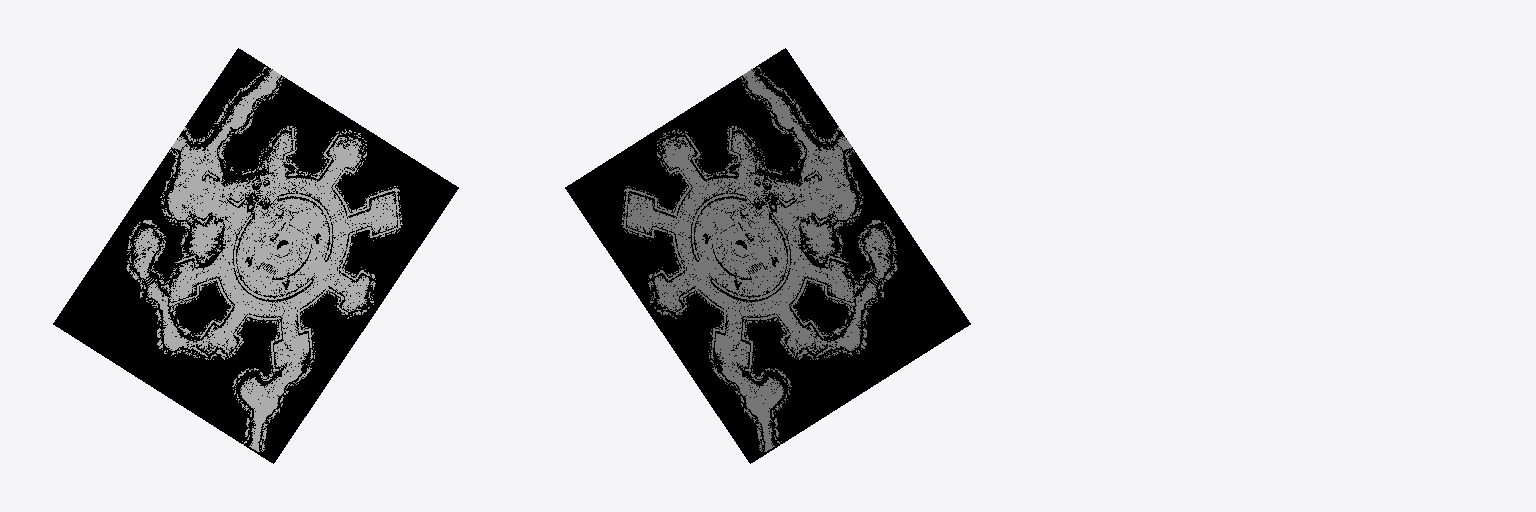
The picture shows the model from 3 angles: view 1: azimuth 30°, elevation 25°; view 2: azimuth 150°, elevation 25°; view 3: azimuth 270°, elevation 25°; orthographic projection.
Parts seen in each view (by area): view 1: Plane003; view 2: Plane003; view 3: none.
Boxes of the visible parts, <box> form: Plane003: <box>53,48,458,463</box>; Plane003: <box>565,48,970,463</box>.
Bounding box in the file's own units: 43.08 × 43.08 × 0.
Materials: 1 (1 with a texture image).